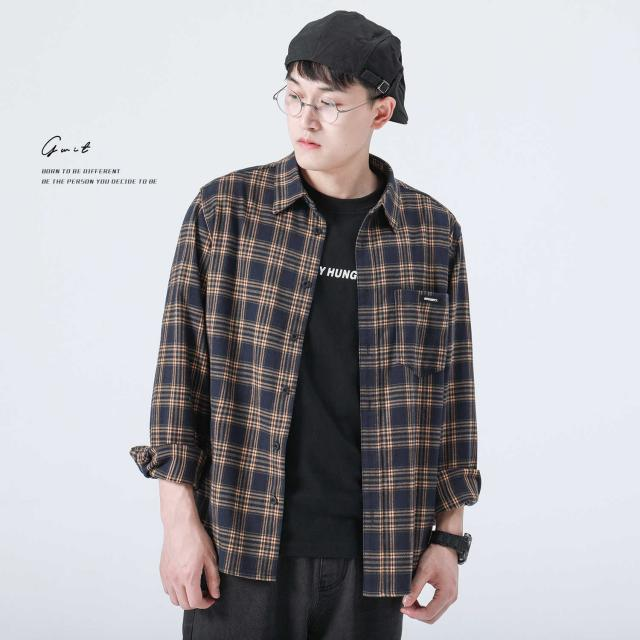plaid: (135, 150, 480, 593)
